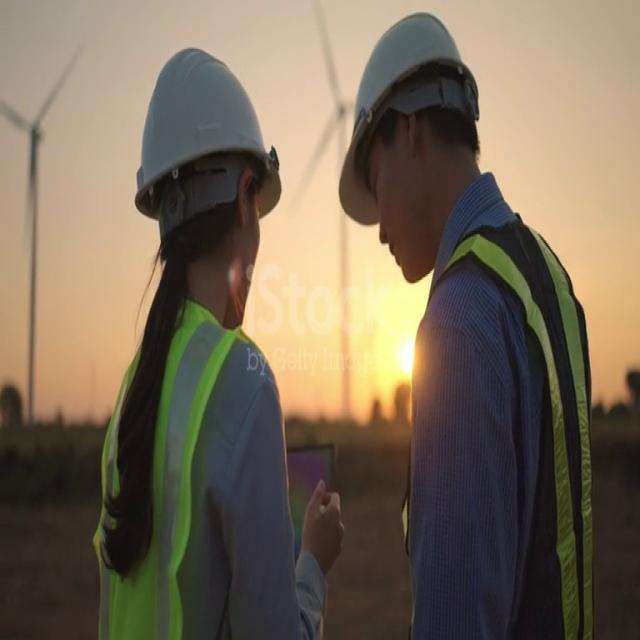capacete: (335, 6, 486, 238), (111, 42, 287, 225)
